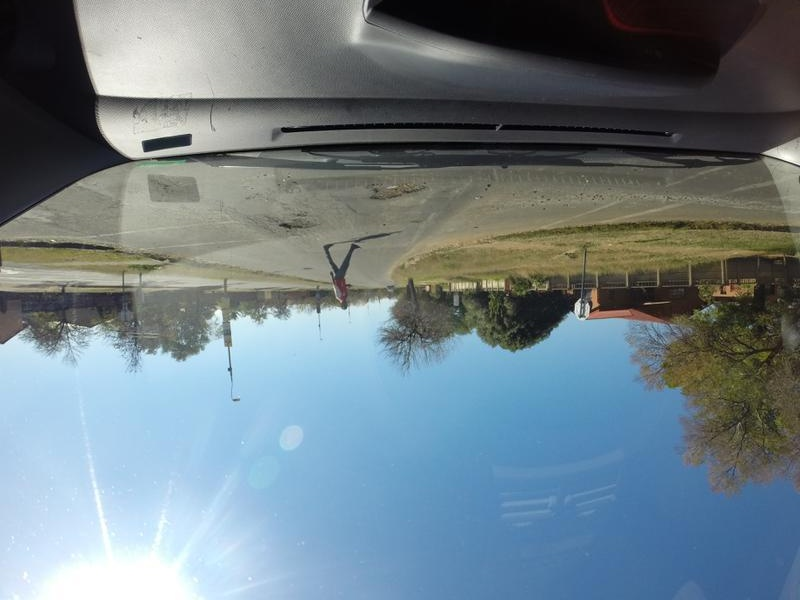pothole: (365, 184, 426, 200), (277, 221, 317, 229), (291, 210, 307, 215)
